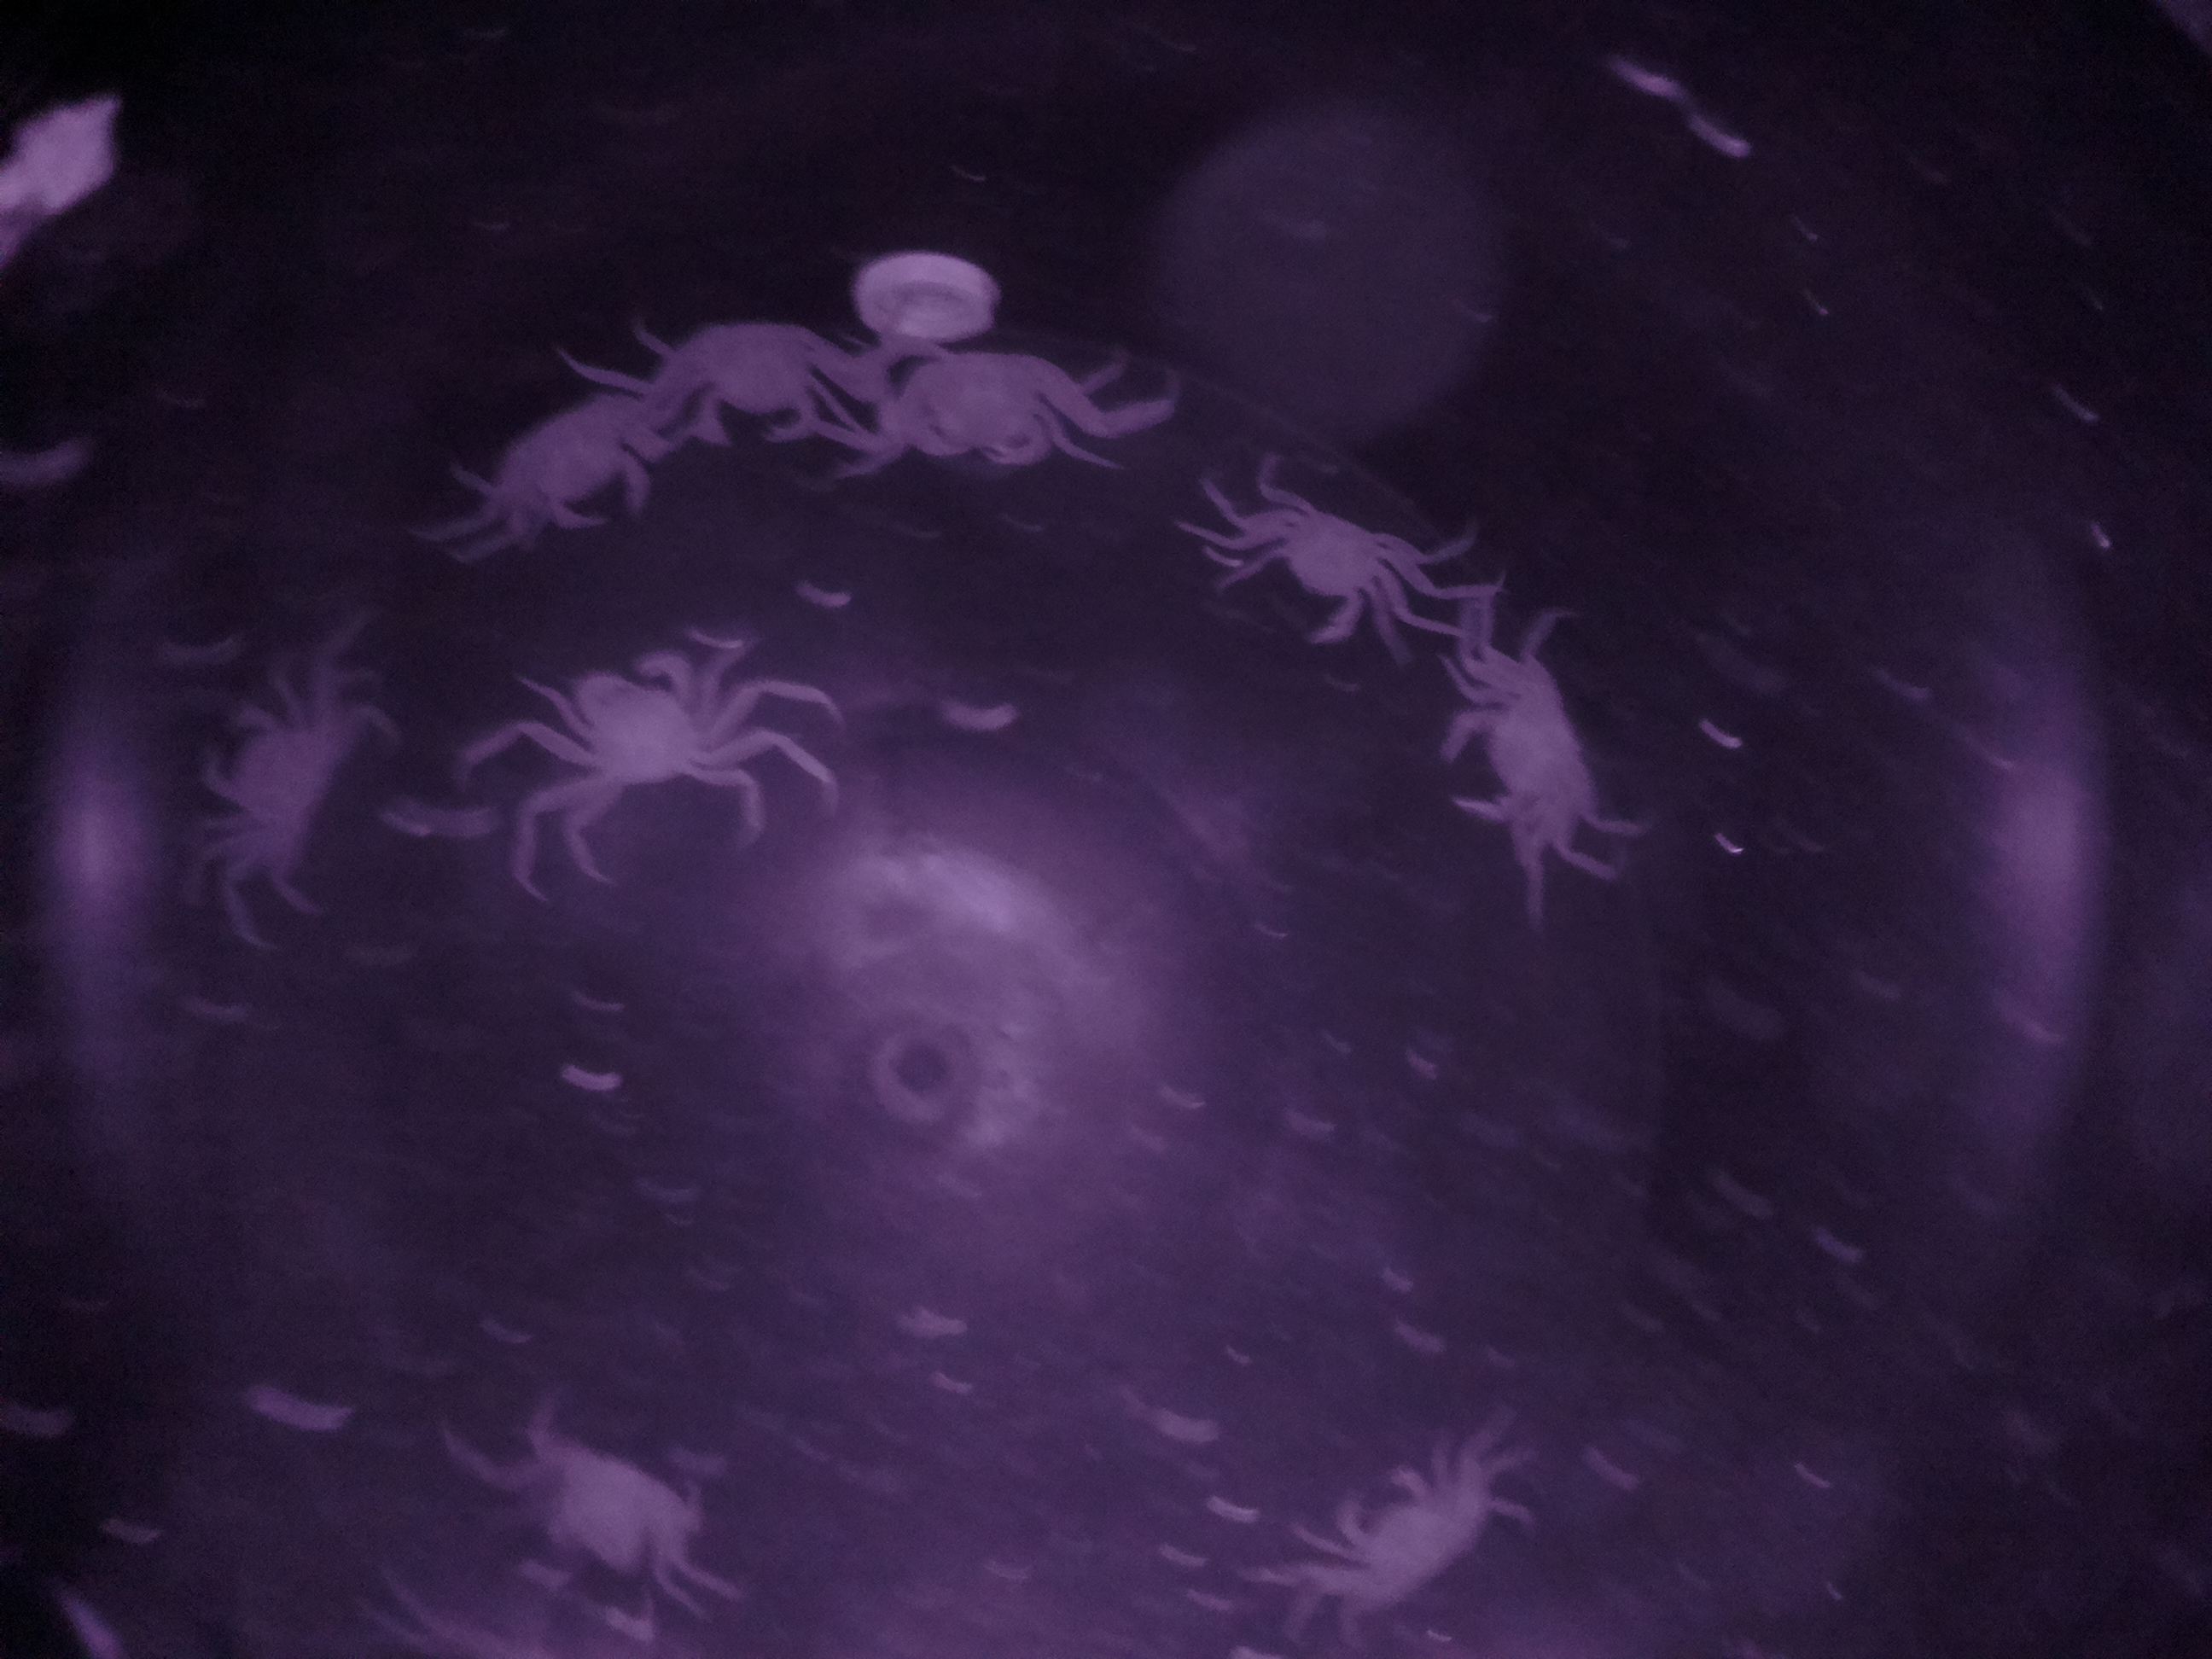Crab: (1430, 652, 1606, 875), (528, 640, 745, 809), (1224, 481, 1402, 676), (665, 289, 850, 471), (871, 338, 1094, 479)
